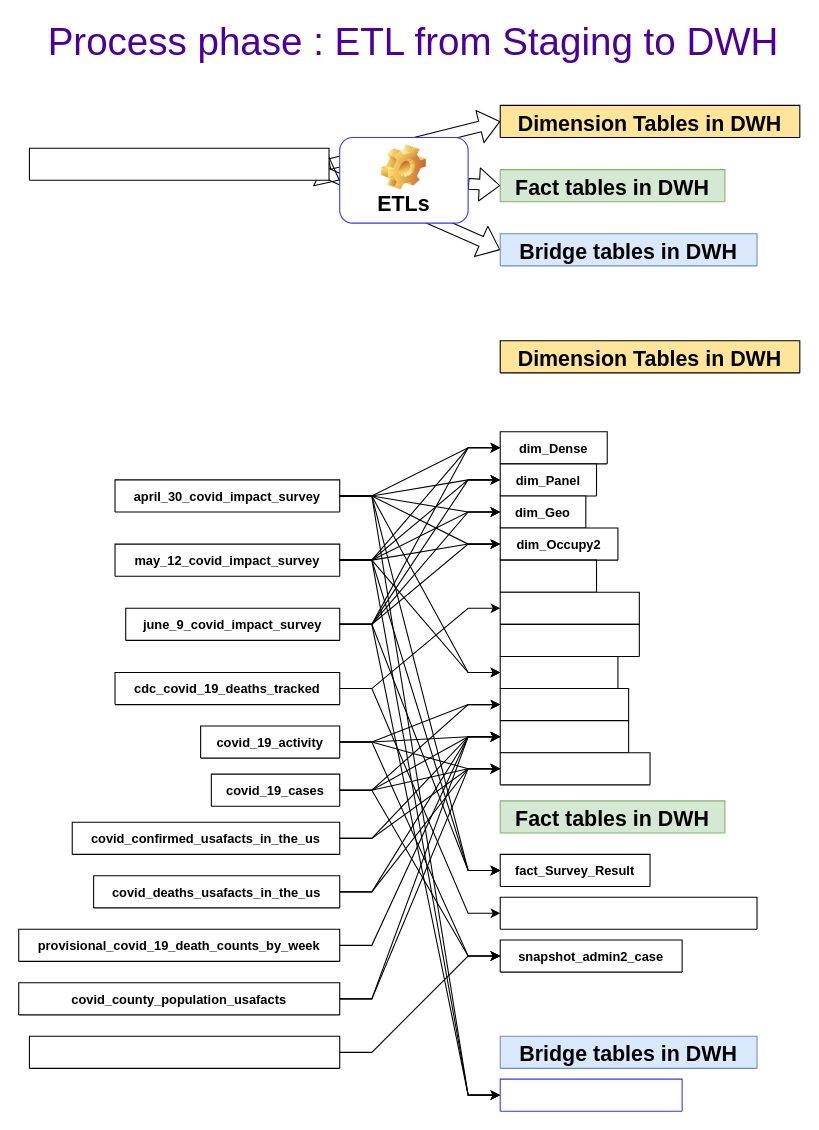
This 819x1130 diagram has some shape labels left out. The shapes that lost their labels are listed below. From the top down, each one's box as (x1, y1, x2, y2) in pixels, then its label:
(28, 147, 329, 180): Table in Staging Database
(499, 559, 597, 592): dim_Date
(499, 591, 639, 624): dim_Age_Group
(499, 623, 639, 656): dim_Dataset
(499, 655, 618, 689): dim_Question
(499, 687, 629, 721): dim_Country
(499, 720, 629, 753): dim_State
(499, 752, 650, 785): dim_Geo_Admin2
(499, 896, 757, 929): snapshot_usa_state_sex_age_death
(28, 1035, 340, 1068): definitive_healthcare_3a_usa_hospital_beds
(499, 1078, 682, 1111): bridge_Survey_Answer
